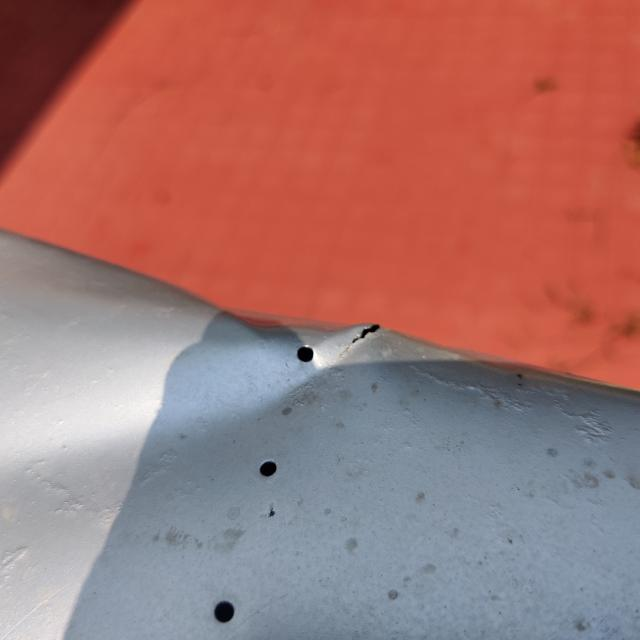crack: (328, 305, 397, 373)
dent: (49, 228, 414, 463)
